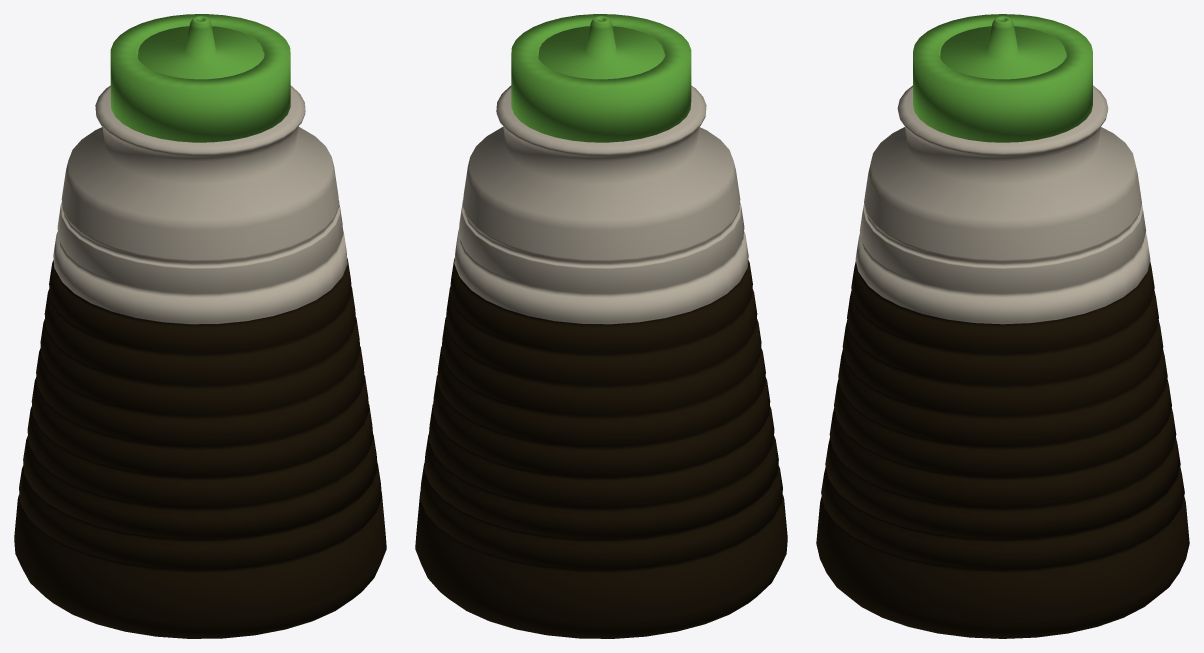
Rendered from soy sauce.fbx.
3 renders of one model, left to right at view 1: azimuth 30°, elevation 25°; view 2: azimuth 150°, elevation 25°; view 3: azimuth 270°, elevation 25°, orthographic.
Visible parts, largest first — view 1: Single Soy Sauce; view 2: Single Soy Sauce; view 3: Single Soy Sauce.
Part boxes in pixels (x1,y1,x2,y2): Single Soy Sauce: (14,14,386,638); Single Soy Sauce: (415,14,787,638); Single Soy Sauce: (816,14,1189,638).
Bounding box in the file's own units: 356 × 586 × 356.
2 materials, 1 textured.
